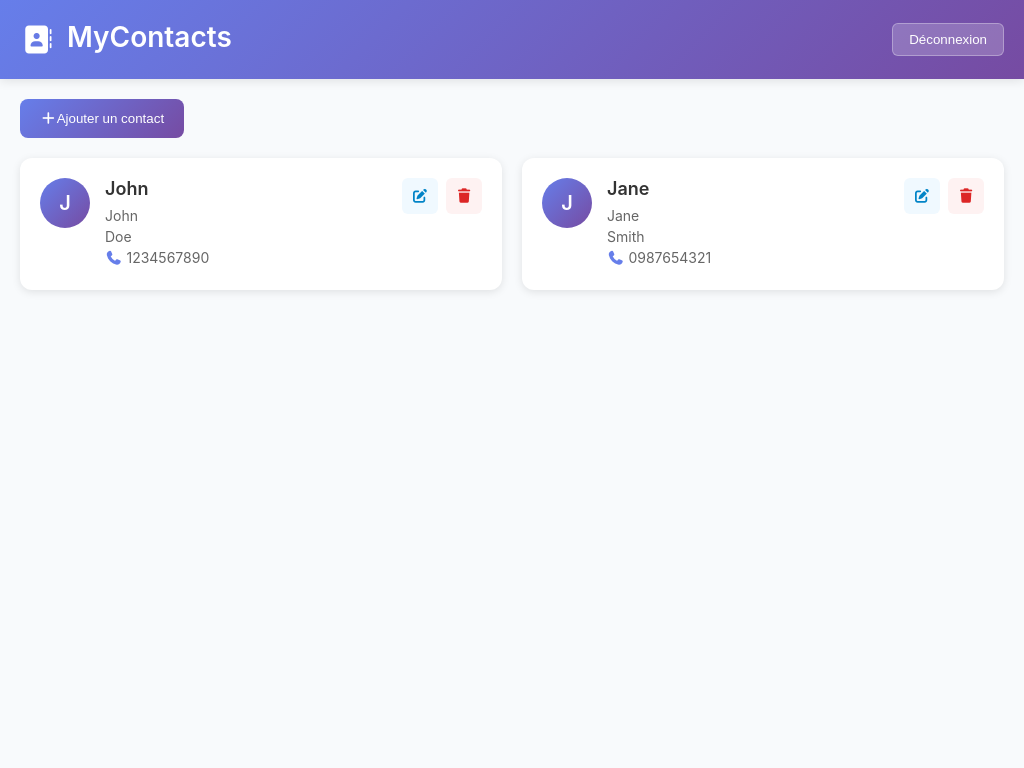
Scenario: Contacts Component › Delete Contact › cancels delete when cancel button is clicked
This screenshot has width=1024, height=768.
Expected: the heading "John" is shown, left=105, top=178, right=148, bottom=199
Step 1. Click the 1st button titled "Supprimer" → (464, 196), box left=446, top=178, right=482, bottom=214
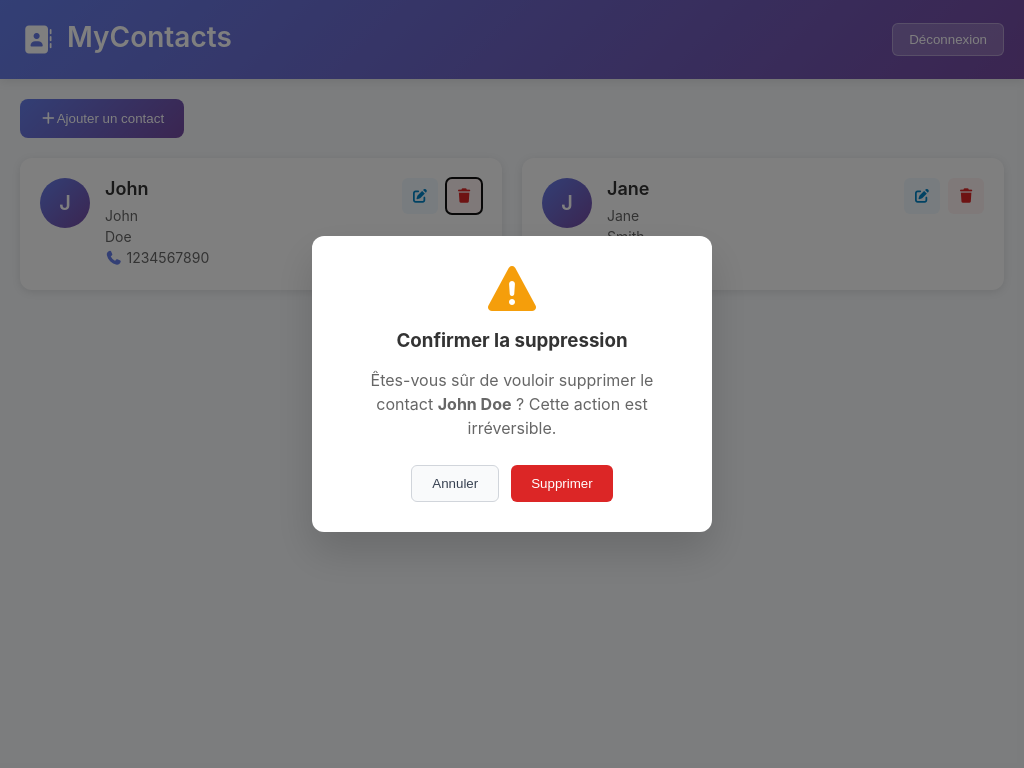
Step 2. Click the button "Annuler" → (455, 484), box left=411, top=465, right=499, bottom=502
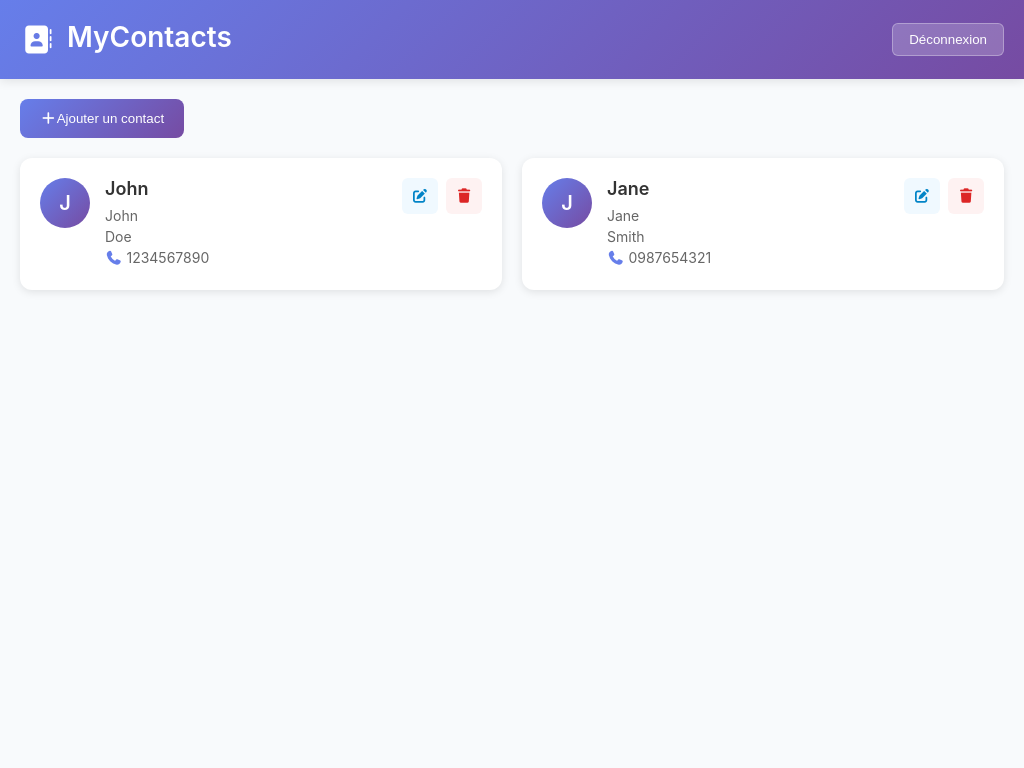
Expected: the heading "Confirmer la suppression" is gone
